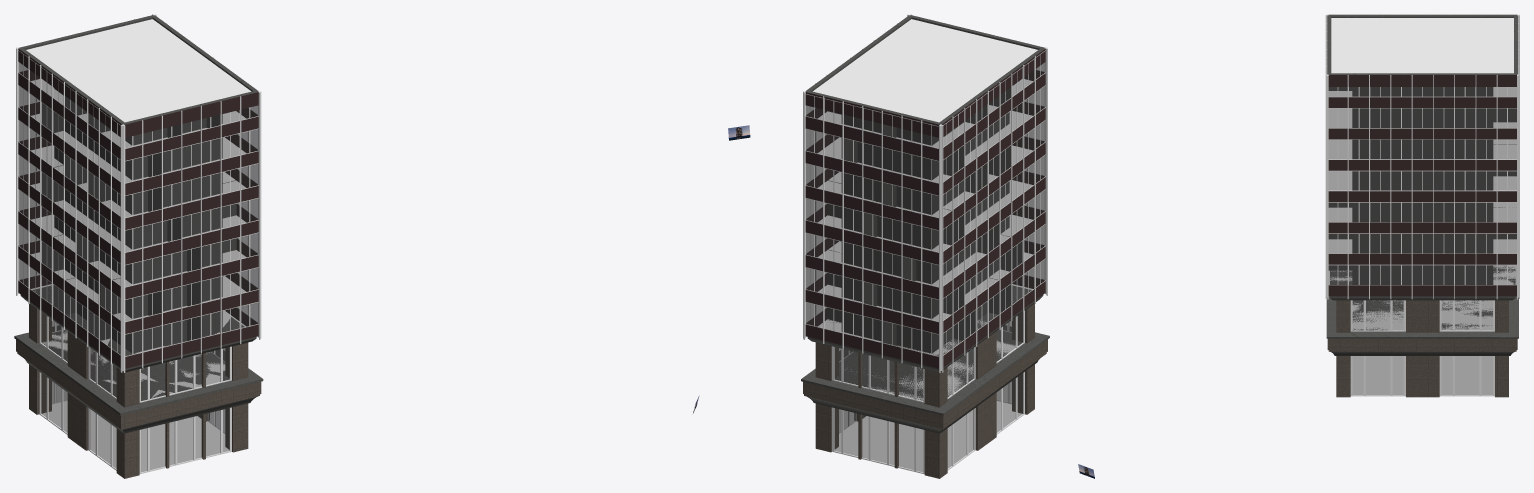
Rendered from japanese_building__cc0.glb.
3 views of the same model, side by side, from view 1: azimuth 30°, elevation 25°; view 2: azimuth 150°, elevation 25°; view 3: azimuth 270°, elevation 25° (orthographic). The views are drawn at different scales.
Visible parts, largest first — view 1: Cube.586_1, Cube.590_5, Cube.588_3, Plane.198_9, Plane.199_10, Plane.191_8, Cube.589_4, Plane.200_11, Cube.587_2; view 2: Cube.586_1, Cube.590_5, Cube.588_3, Plane.198_9, Plane.199_10, Plane.191_8, Cube.589_4, Plane.200_11, Cube.587_2; view 3: Cube.586_1, Cube.590_5, Plane.198_9, Cube.588_3, Plane.199_10, Plane.191_8, Cube.589_4, Plane.200_11, Cube.587_2.
Part boxes in pixels (x1,y1,x2,y2): Cube.586_1: (18, 19, 258, 368); Cube.590_5: (41, 88, 236, 352); Cube.588_3: (16, 14, 261, 372); Plane.198_9: (14, 325, 263, 433); Plane.199_10: (29, 303, 248, 478); Plane.191_8: (39, 372, 231, 473); Cube.589_4: (18, 15, 258, 137); Plane.200_11: (39, 310, 231, 402); Cube.587_2: (20, 285, 256, 372); Cube.586_1: (805, 19, 1045, 368); Cube.590_5: (827, 87, 1022, 353); Cube.588_3: (803, 14, 1047, 372); Plane.198_9: (801, 325, 1049, 433); Plane.199_10: (815, 303, 1034, 478); Plane.191_8: (832, 372, 1024, 474); Cube.589_4: (805, 15, 1045, 137); Plane.200_11: (832, 310, 1024, 402); Cube.587_2: (807, 285, 1043, 372); Cube.586_1: (1328, 18, 1516, 296); Cube.590_5: (1328, 87, 1516, 284); Plane.198_9: (1326, 296, 1518, 355); Cube.588_3: (1325, 14, 1519, 299); Plane.199_10: (1336, 300, 1508, 397); Plane.191_8: (1350, 356, 1494, 396); Cube.589_4: (1327, 14, 1517, 86); Plane.200_11: (1350, 300, 1494, 331); Cube.587_2: (1330, 265, 1515, 300).
Bounding box in the file's own units: 40.83 × 31.09 × 38.29.
Materials: 8 (3 with a texture image).
